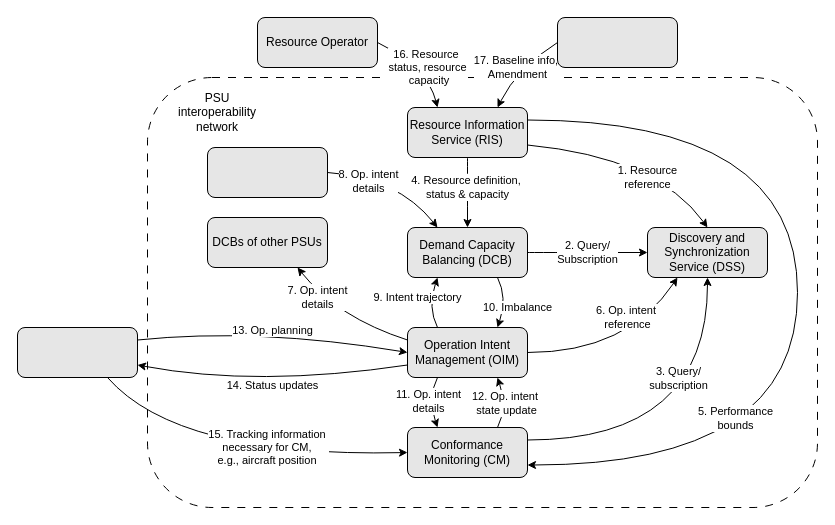
This 835x525 diagram has some shape labels left out. The shapes that lost their labels are listed below. From the top down, each one's centre as x and y in pixels, then its label:
At point 617,42: "Resource Authority".
At point 267,172: "OIMs of other PSUs".
At point 77,352: "Operator & Delegates".
